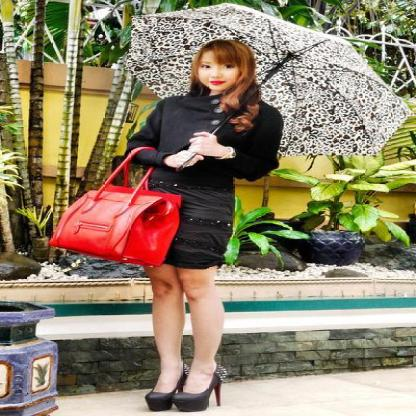bag: (45, 158, 181, 266)
shirt: (126, 92, 287, 190)
shoe: (145, 391, 212, 415)
shorts: (148, 176, 234, 268)
